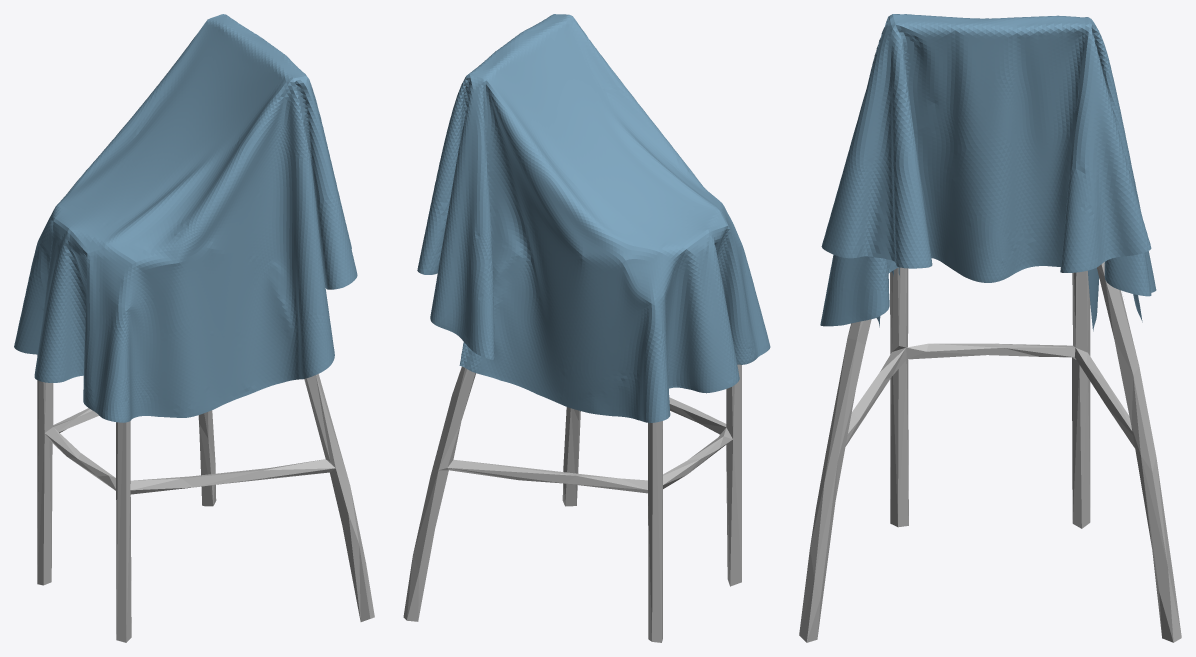
Rendered from level_3.glb.
The picture shows the model from 3 angles, left to right: view 1: azimuth 30°, elevation 25°; view 2: azimuth 150°, elevation 25°; view 3: azimuth 270°, elevation 25°; orthographic projection. The views are drawn at different scales.
Visible parts, largest first — view 1: world, object.obj; view 2: world, object.obj; view 3: world, object.obj.
Boxes of the visible parts, x1=… form: world: x1=14, y1=14, x2=357, y2=422; object.obj: x1=37, y1=355, x2=374, y2=642; world: x1=417, y1=14, x2=770, y2=422; object.obj: x1=403, y1=364, x2=741, y2=642; world: x1=820, y1=14, x2=1156, y2=331; object.obj: x1=799, y1=262, x2=1181, y2=642.
Bounding box in the file's own units: 0.2338 × 0.4239 × 0.2427.
